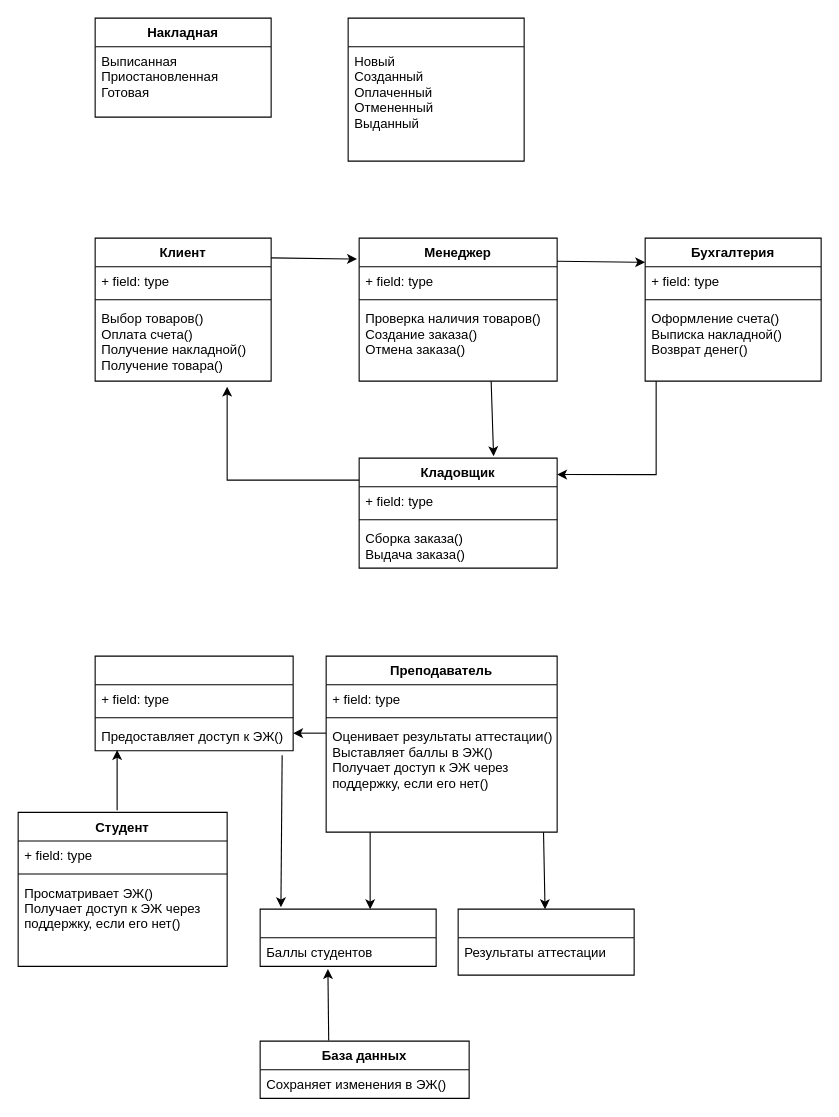
Image size: 839x1117. Some labels were removed from this diagram. The shapes that lost their labels are listed below. From the top down, each one's box as (x1, y1, x2, y2) in pixels, then its label:
(347, 17, 524, 161): Заказ
(94, 655, 293, 751): Поддержка
(259, 908, 436, 966): Электронный журнал
(457, 908, 634, 975): Аттестация
